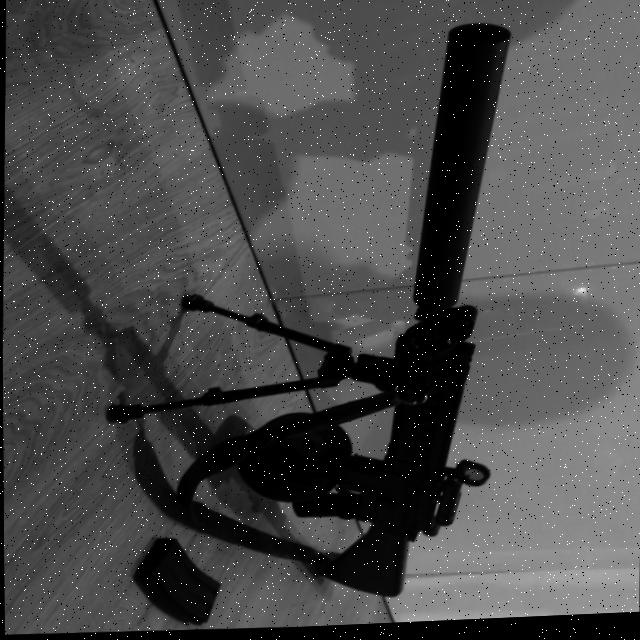firearm: (237, 23, 514, 607)
